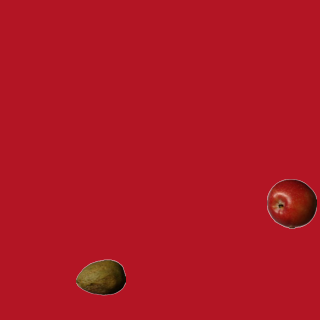Apple Braeburn: (266, 178, 316, 228)
Papaya: (75, 252, 125, 302)
